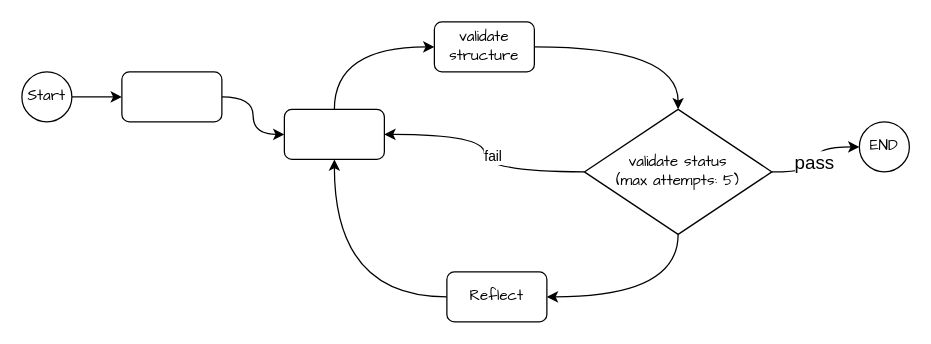
Some shapes in this 931 by 344 pixel diagram are drawn without their labels. Here are the shapes that lost their labels. From the top down, the box of each, then its label:
(121, 71, 222, 122): prompt
(283, 108, 384, 159): generate
